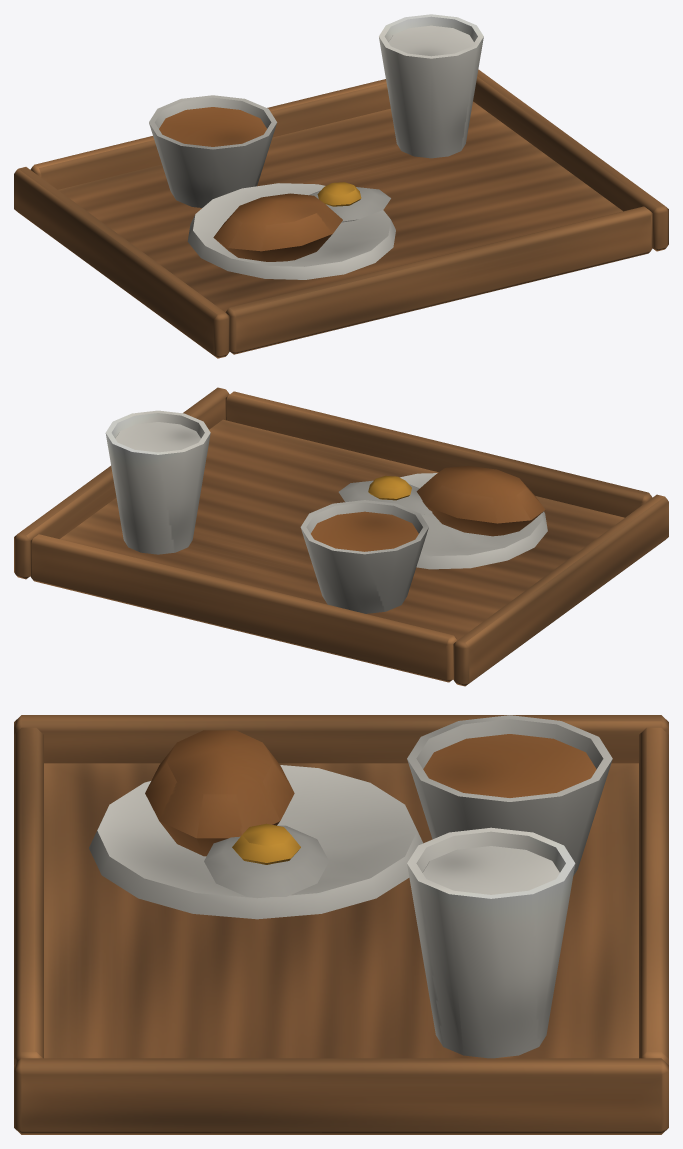
The model's file is Furn_Meal_Breakfast.fbx.
The picture shows the model from 3 angles, top to bottom: view 1: azimuth 30°, elevation 25°; view 2: azimuth 150°, elevation 25°; view 3: azimuth 270°, elevation 25°; orthographic projection. The views are drawn at different scales.
Parts seen in each view (by area): view 1: Furn_Meal_Breakfast; view 2: Furn_Meal_Breakfast; view 3: Furn_Meal_Breakfast.
Boxes of the visible parts, x1,y1,x2,y2 form: Furn_Meal_Breakfast: (14, 14, 668, 358); Furn_Meal_Breakfast: (14, 387, 668, 686); Furn_Meal_Breakfast: (14, 715, 668, 1134).
Size of the model in its own units: 0.45 by 0.12 by 0.35.
Materials: 4 (4 with a texture image).
